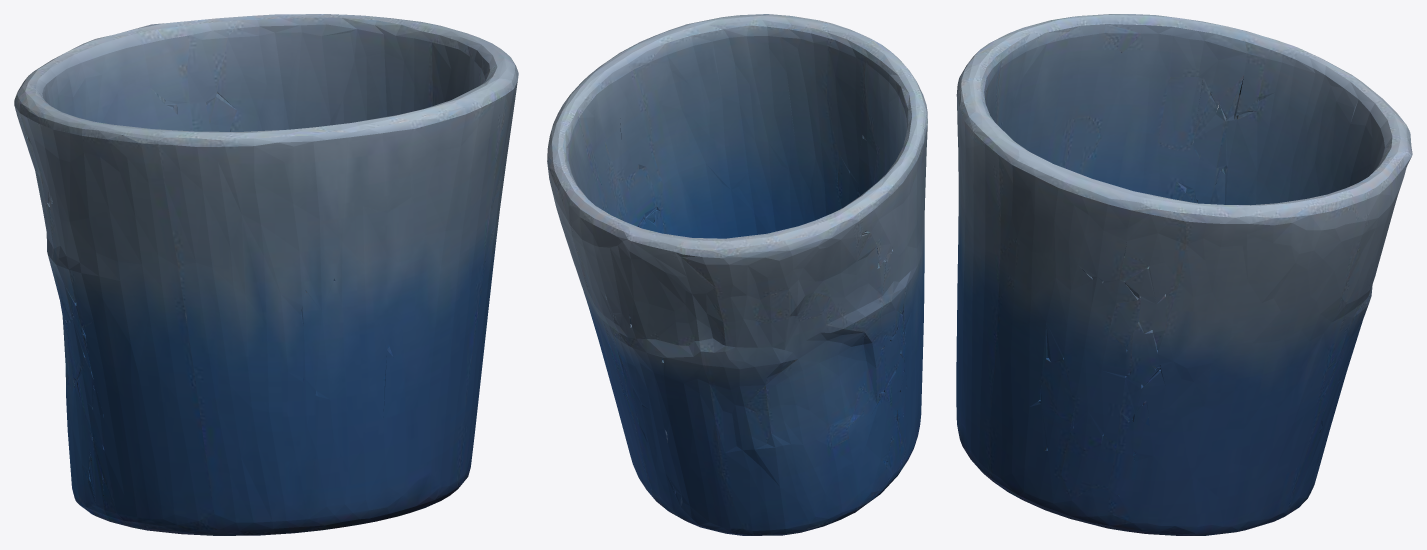
The model's file is blue_trash_can_000.glb.
The picture shows the model from 3 angles, left to right: view 1: azimuth 30°, elevation 25°; view 2: azimuth 150°, elevation 25°; view 3: azimuth 270°, elevation 25°; orthographic projection. The views are drawn at different scales.
Visible parts, largest first — view 1: blue_trash_can_000.obj; view 2: blue_trash_can_000.obj; view 3: blue_trash_can_000.obj.
Boxes of the visible parts, x1,y1,x2,y2 form: blue_trash_can_000.obj: [14, 14, 518, 535]; blue_trash_can_000.obj: [547, 14, 927, 535]; blue_trash_can_000.obj: [956, 14, 1412, 535].
Bounding box in the file's own units: 0.1564 × 0.1694 × 0.1627.
1 material, 1 textured.
